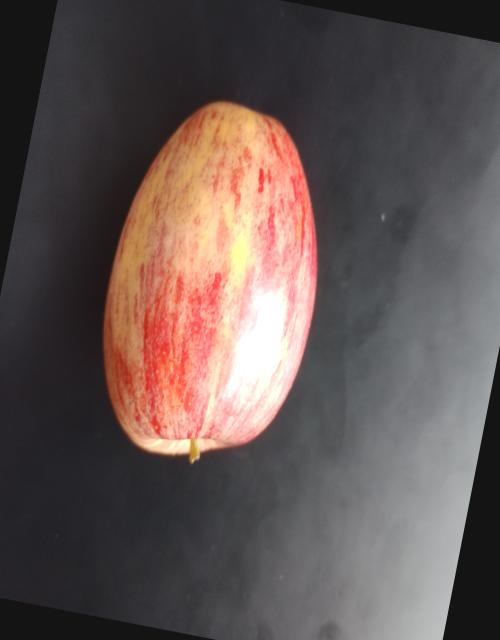Manzana: (47, 49, 379, 500)
